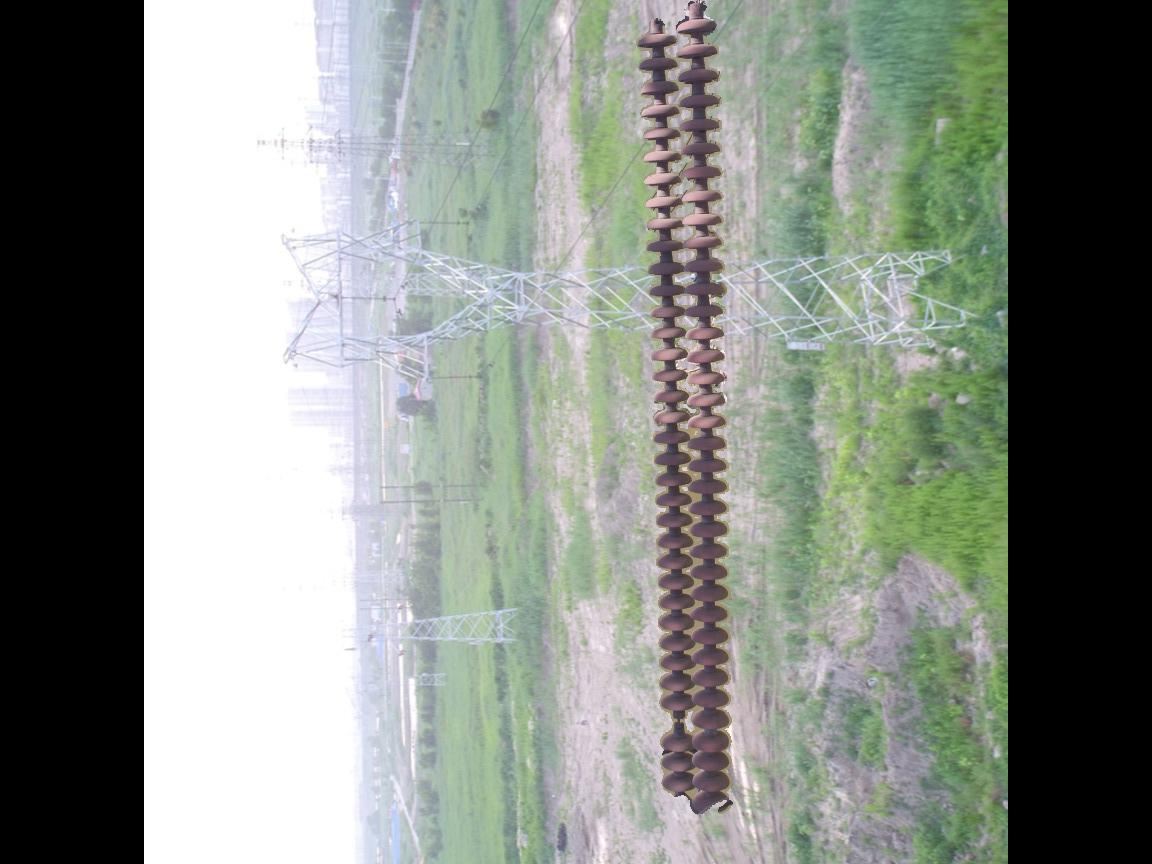insulator: (629, 11, 740, 820)
insulator_stringdrop: (653, 687, 696, 755)
